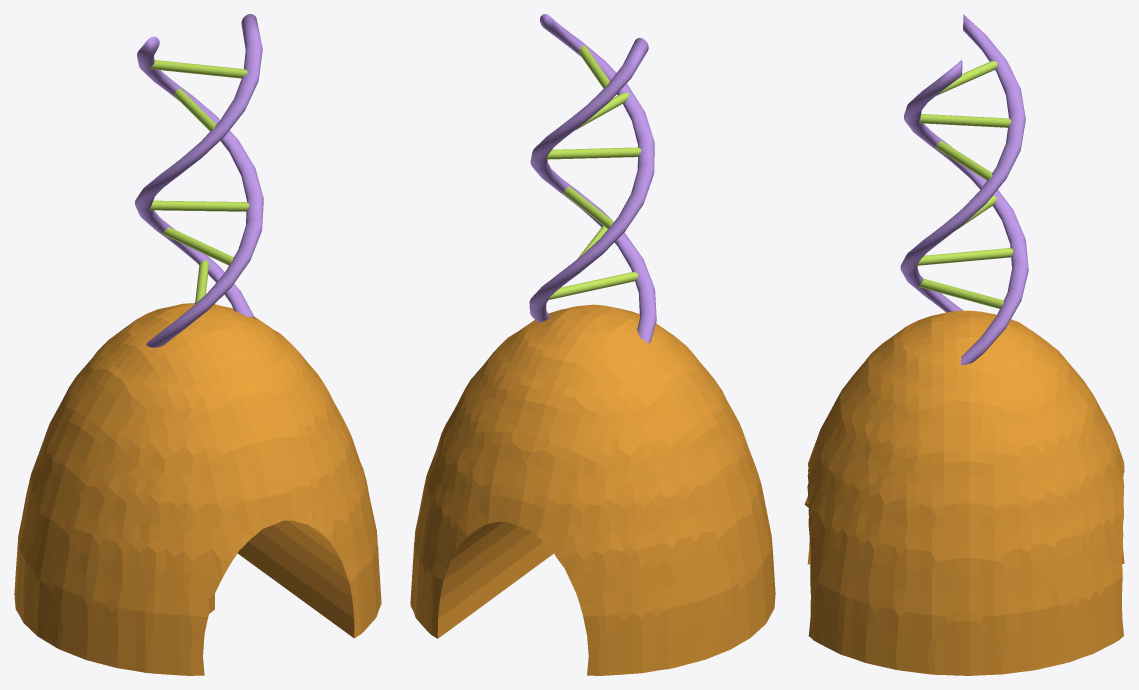
File: DNA2.fbx
3 renders of one model, left to right at view 1: azimuth 30°, elevation 25°; view 2: azimuth 150°, elevation 25°; view 3: azimuth 270°, elevation 25°, orthographic. The views are drawn at different scales.
Parts seen in each view (by area): view 1: Sphere, Circle.001, Circle, Cylinder.002, Cylinder.005, Cylinder.001; view 2: Sphere, Circle, Circle.001, Cylinder.003, Cylinder, Cylinder.002; view 3: Sphere, Circle.001, Circle, Cylinder.001, Cylinder.004, Cylinder, Cylinder.003, Cylinder.005.
Part boxes in pixels (left/top/right/bottom): Sphere: left=14, top=303, right=381, bottom=675; Circle.001: left=137, top=36, right=263, bottom=347; Circle: left=135, top=14, right=262, bottom=319; Cylinder.002: left=149, top=200, right=249, bottom=211; Cylinder.005: left=148, top=60, right=247, bottom=78; Cylinder.001: left=162, top=227, right=233, bottom=265; Sphere: left=410, top=304, right=775, bottom=675; Circle: left=529, top=14, right=654, bottom=322; Circle.001: left=530, top=38, right=656, bottom=343; Cylinder.003: left=546, top=147, right=641, bottom=159; Cylinder: left=548, top=272, right=638, bottom=299; Cylinder.002: left=563, top=186, right=613, bottom=228; Sphere: left=804, top=310, right=1124, bottom=675; Circle.001: left=900, top=14, right=1025, bottom=312; Circle: left=904, top=60, right=1028, bottom=364; Cylinder.001: left=916, top=248, right=1013, bottom=265; Cylinder.004: left=919, top=114, right=1021, bottom=127; Cylinder: left=919, top=278, right=1003, bottom=308; Cylinder.003: left=935, top=140, right=992, bottom=180; Cylinder.005: left=936, top=61, right=997, bottom=95.
Bounding box in the file's own units: 1324 × 2277 × 1175.
